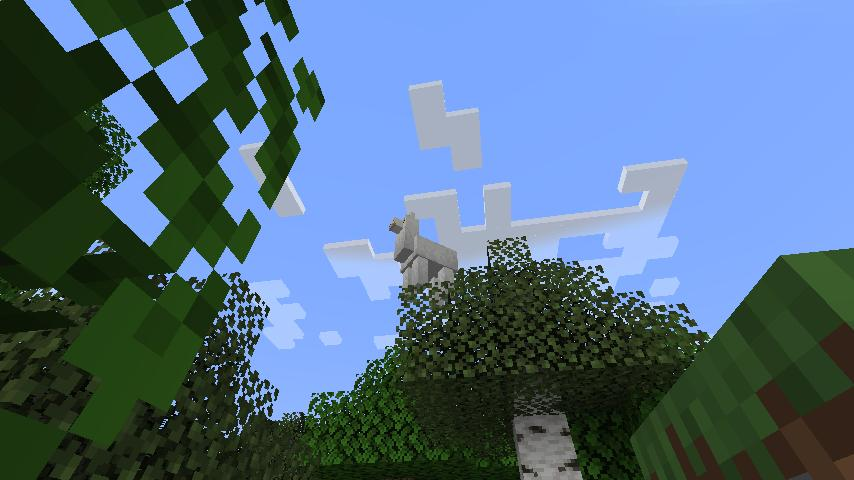llama: (386, 208, 463, 309)
